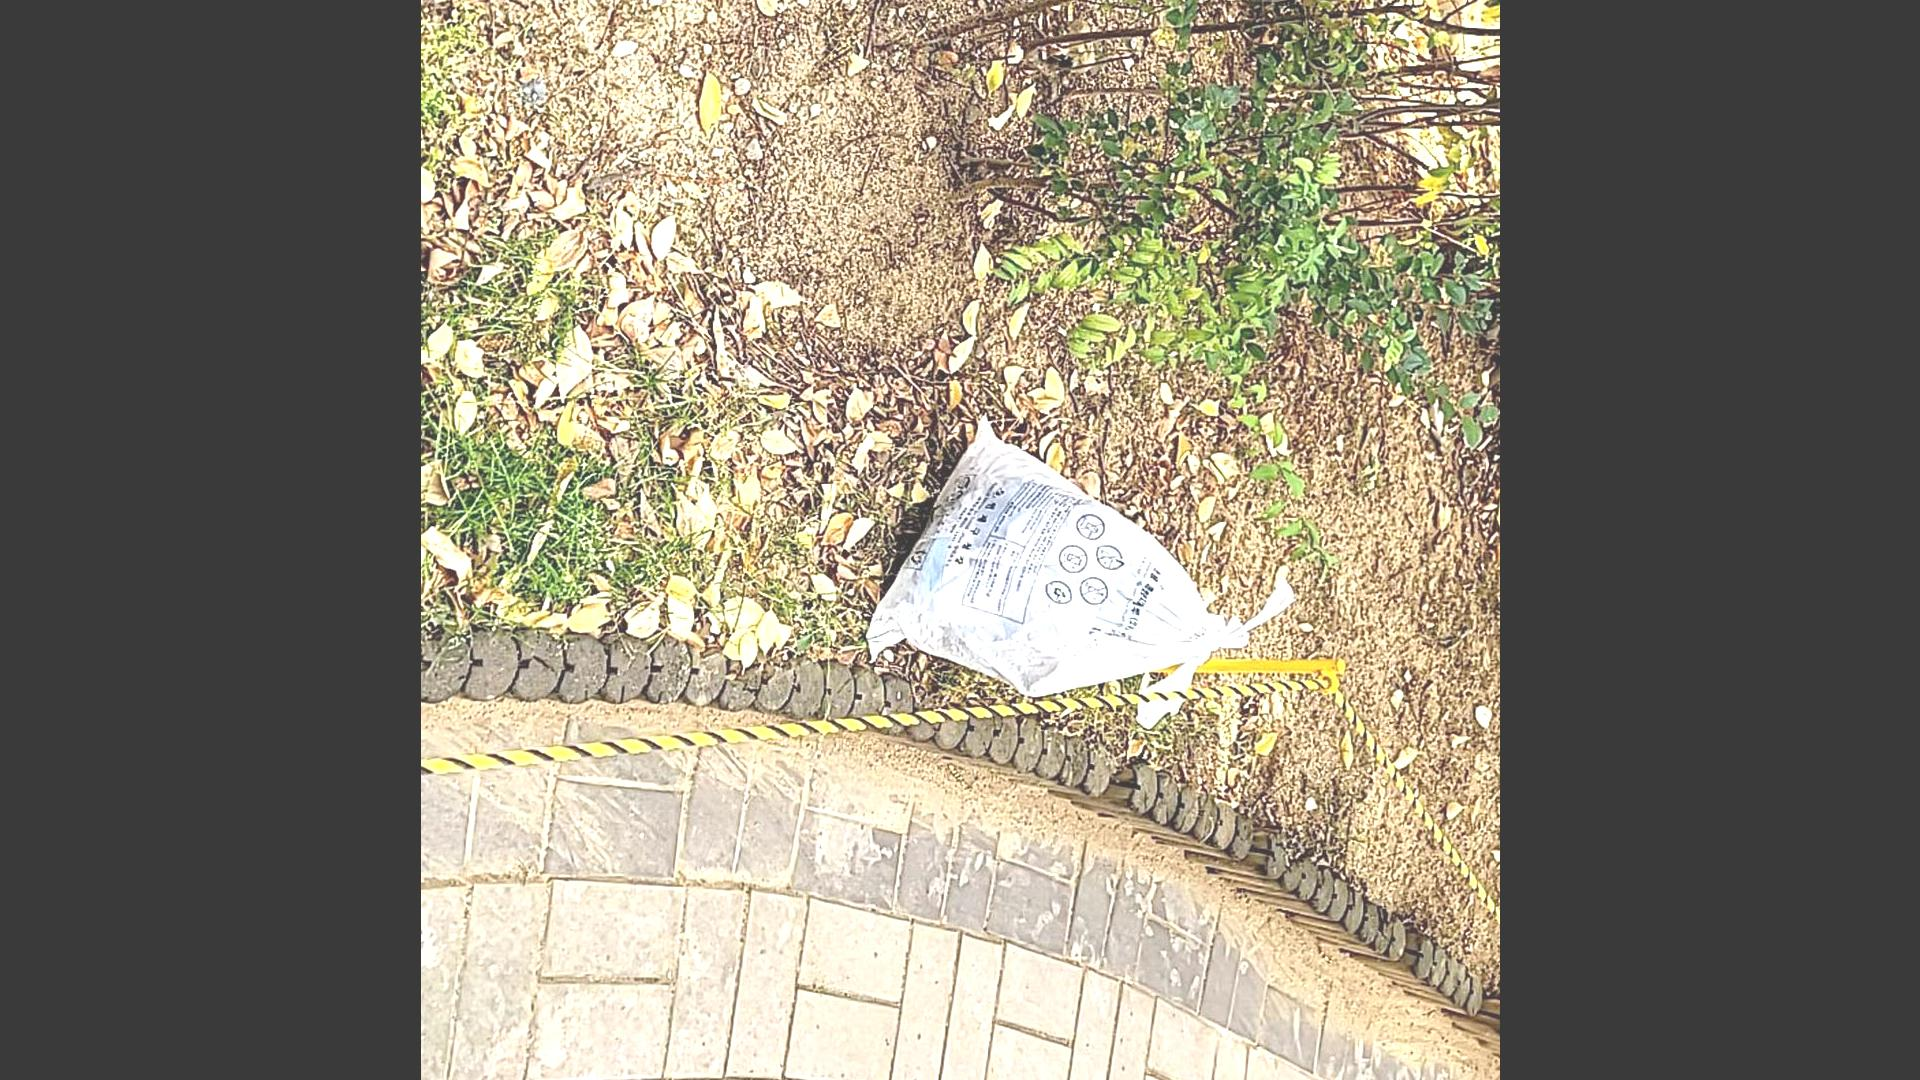white_bag: (847, 414, 1327, 731)
